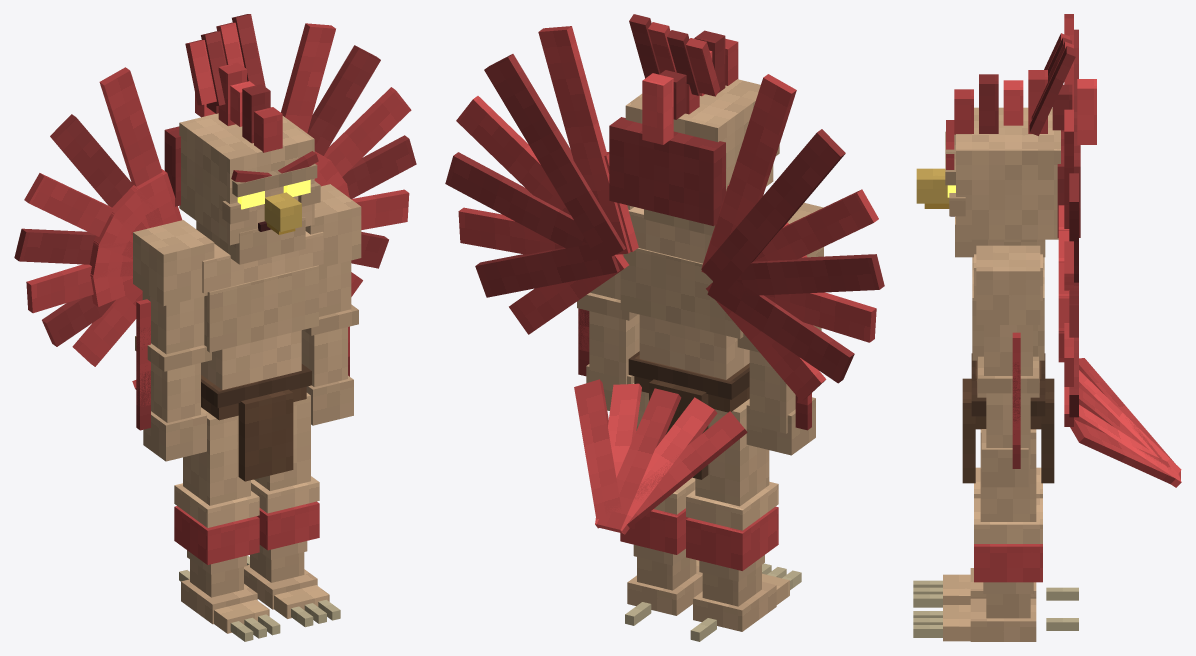
File: harpy_base_v2_evo1.glb
The picture shows the model from 3 angles, left to right: view 1: azimuth 30°, elevation 25°; view 2: azimuth 150°, elevation 25°; view 3: azimuth 270°, elevation 25°; orthographic projection. The views are drawn at different scales.
Visible parts, largest first — view 1: Torso, Head, ArmR, LegR, LegL, ArmL, Root; view 2: Torso, Head, LegR, LegL, ArmR, ArmL, Root; view 3: Head, Torso, ArmL, LegL, Root, LegR.
Part boxes in pixels (x1,y1,x2,y2): Torso: (14, 23, 416, 481); Head: (164, 14, 320, 264); ArmR: (133, 220, 214, 461); LegR: (174, 407, 269, 633); LegL: (244, 393, 329, 618); ArmL: (301, 184, 361, 425); Root: (179, 555, 340, 641); Torso: (445, 26, 884, 534); Head: (609, 14, 779, 235); LegR: (686, 399, 789, 631); LegL: (620, 383, 702, 615); ArmR: (737, 202, 823, 455); ArmL: (577, 205, 639, 410); Root: (625, 563, 801, 641); Head: (916, 33, 1096, 257); Torso: (962, 14, 1181, 487); ArmL: (976, 245, 1040, 487); LegL: (943, 429, 1042, 641); Root: (913, 580, 1078, 637); LegR: (943, 467, 1042, 604).
Size of the model in its own units: 1.46 by 1.94 by 0.8178.
Materials: 24 (24 with a texture image).
